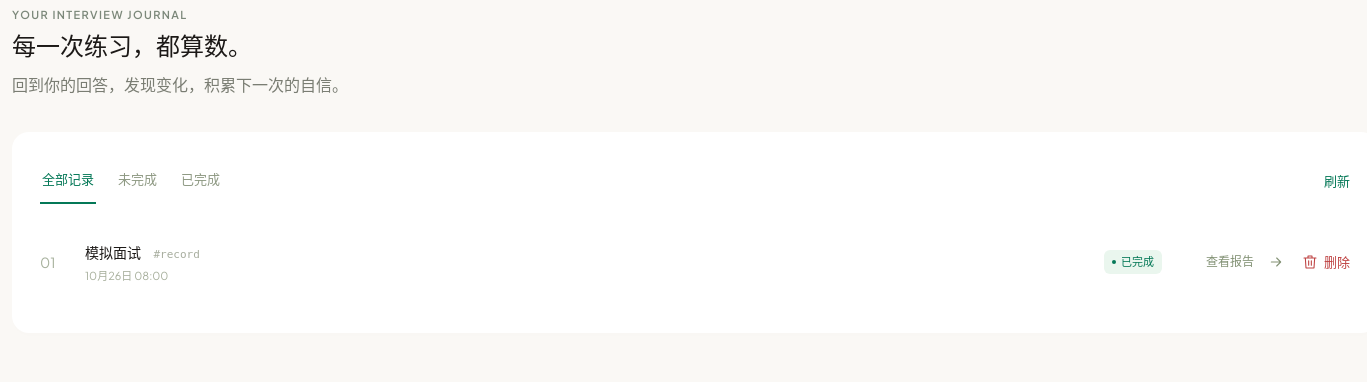
Test: interview deletion › confirms, sends CSRF and removes only the selected record
Click the button "删除": (1326, 262) top-left (1302, 240), bottom-right (1350, 284)
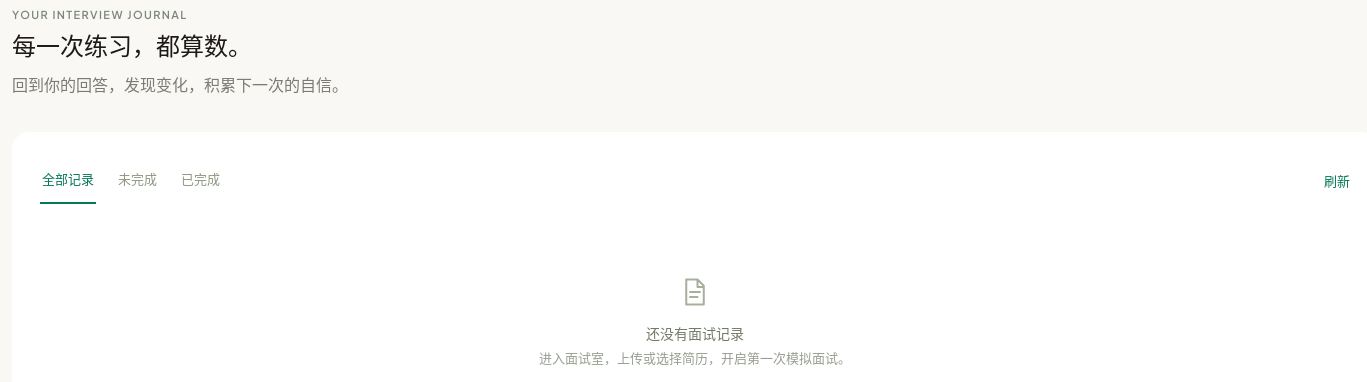
Result: the text "还没有面试记录" is shown at top-left (646, 322), bottom-right (744, 344)
